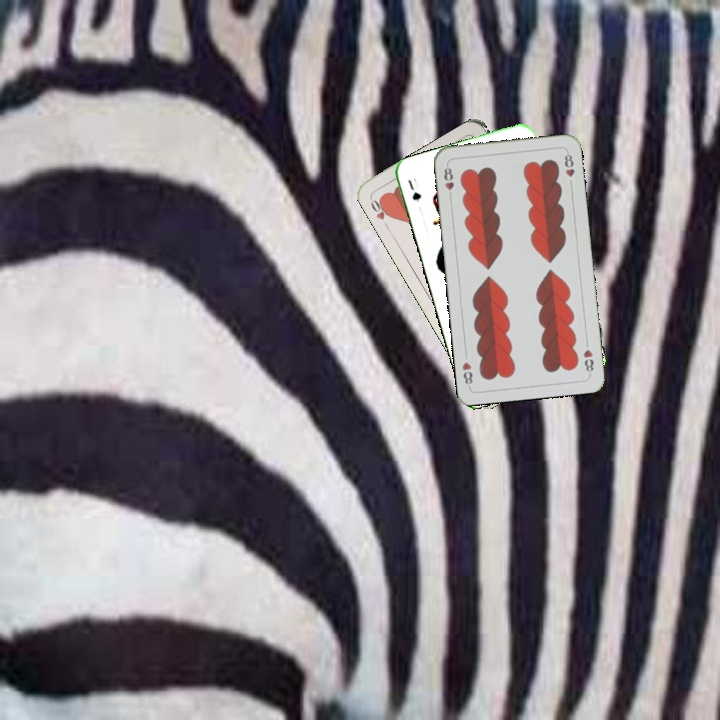GU: (404, 176, 424, 204)
H8: (440, 161, 456, 201), (579, 345, 596, 377)
HO: (366, 194, 394, 232)
